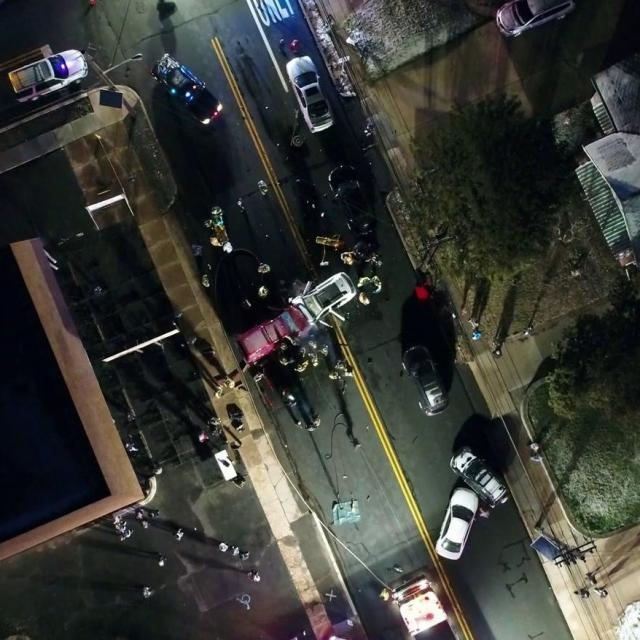traffic_incident: (187, 152, 370, 472)
